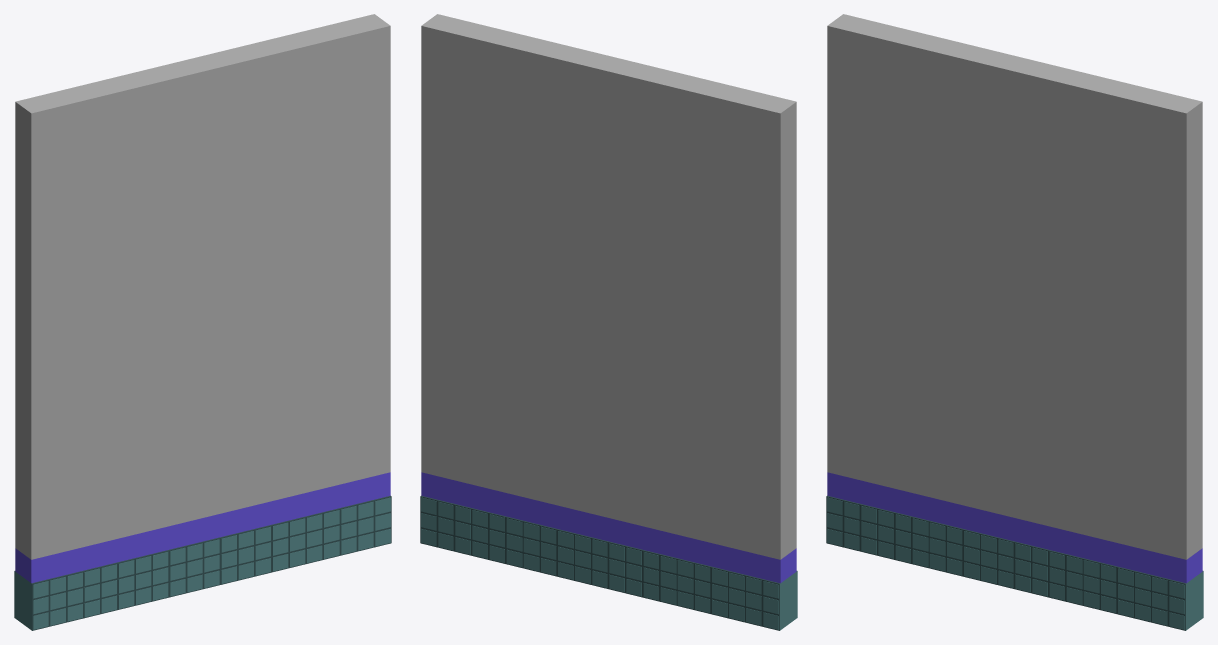
The model's file is Wall.fbx.
3 views of the same model, side by side, from view 1: azimuth 30°, elevation 25°; view 2: azimuth 150°, elevation 25°; view 3: azimuth 330°, elevation 25° (orthographic).
Visible parts, largest first — view 1: Cube.032; view 2: Cube.032; view 3: Cube.032.
Part boxes in pixels (x1=…): Cube.032: x1=14, y1=14, x2=391, y2=630; Cube.032: x1=420, y1=14, x2=797, y2=630; Cube.032: x1=826, y1=14, x2=1203, y2=630.
Size of the model in its own units: 800 by 1100 by 70.27.
